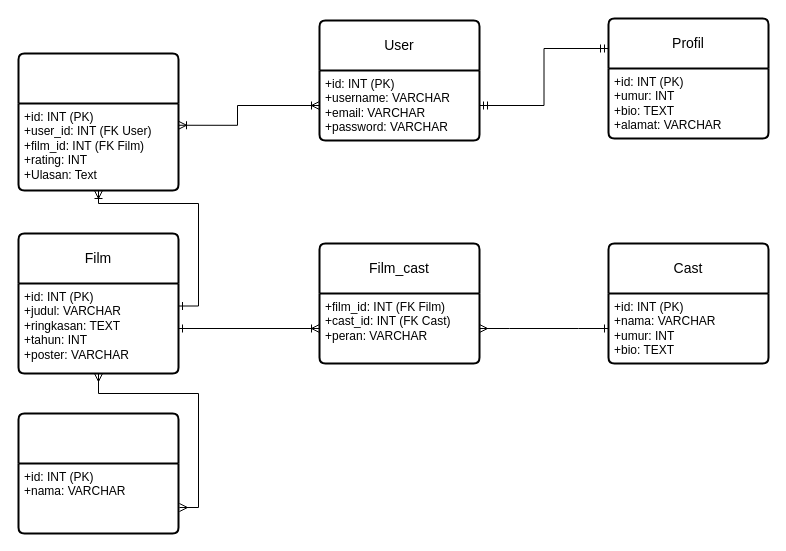
Some shapes in this 786 by 551 pixel diagram are drawn without their labels. The shapes that lost their labels are listed below. From the top down, each one's box as (x1, y1, x2, y2) in pixels, then its label:
(17, 52, 179, 191): Review
(17, 412, 179, 534): Genre
